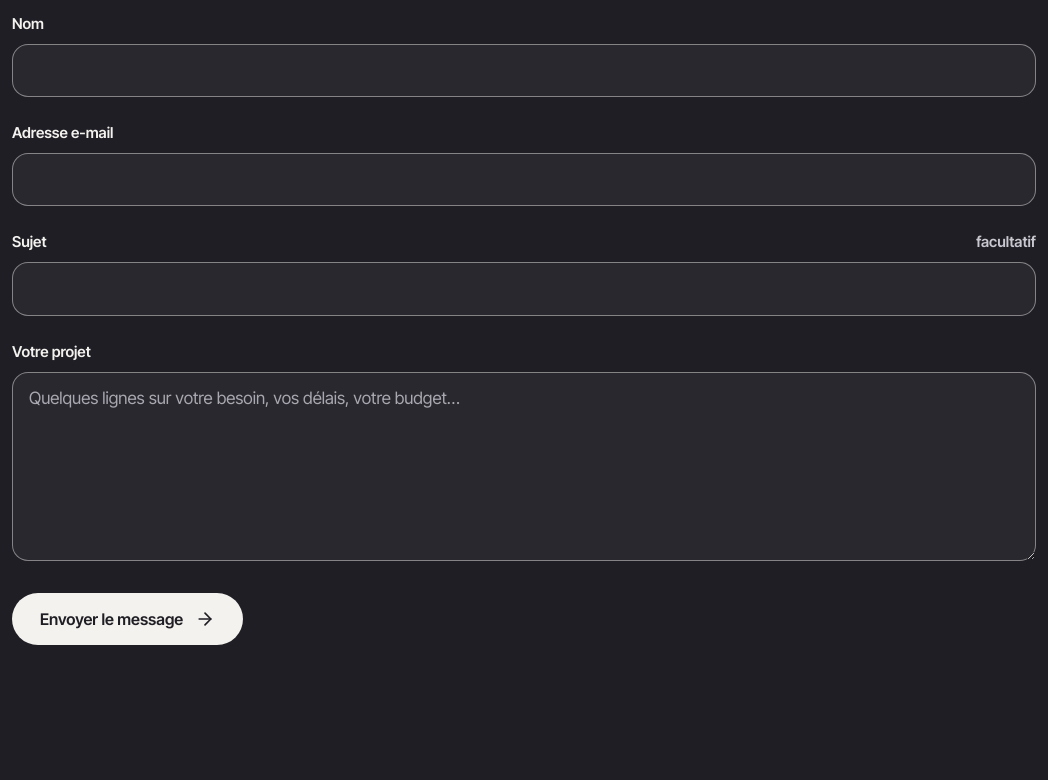
Scenario: ContactForm › envoie le message à Formspree et confirme l’envoi
Type "Awa" into the field labelled "Nom" at (524, 71), box [12,44,1036,97]
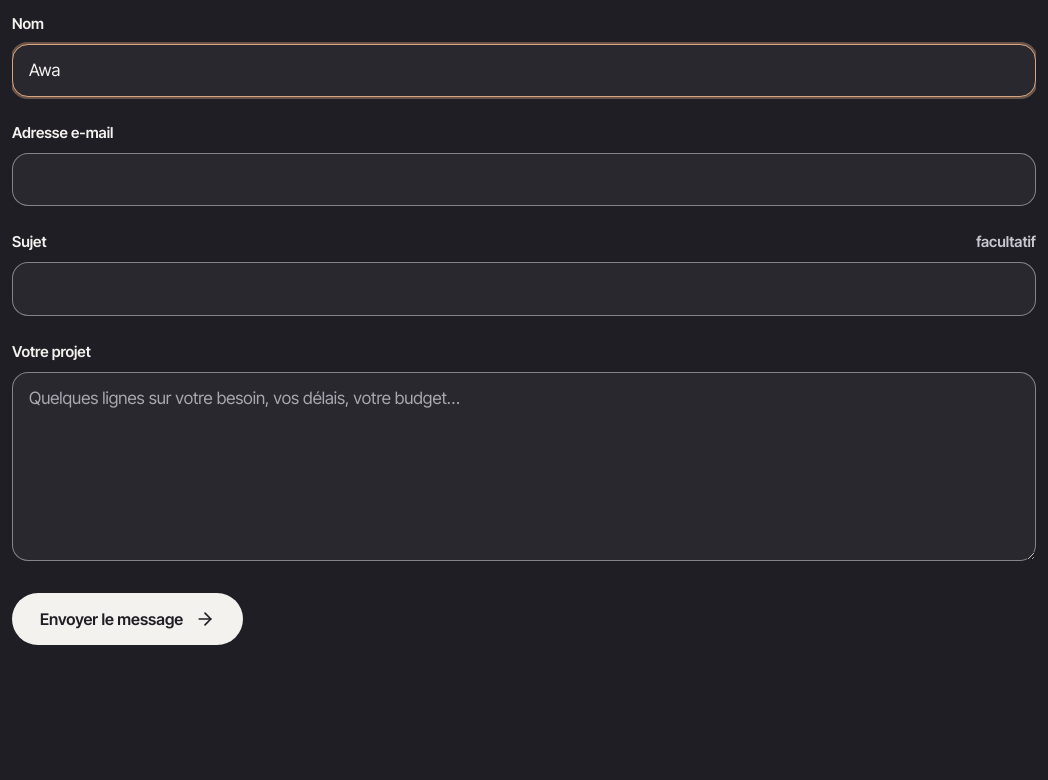
Type "awa@exemple.bj" into the field labelled "Adresse e-mail" at (524, 180), box [12,153,1036,206]
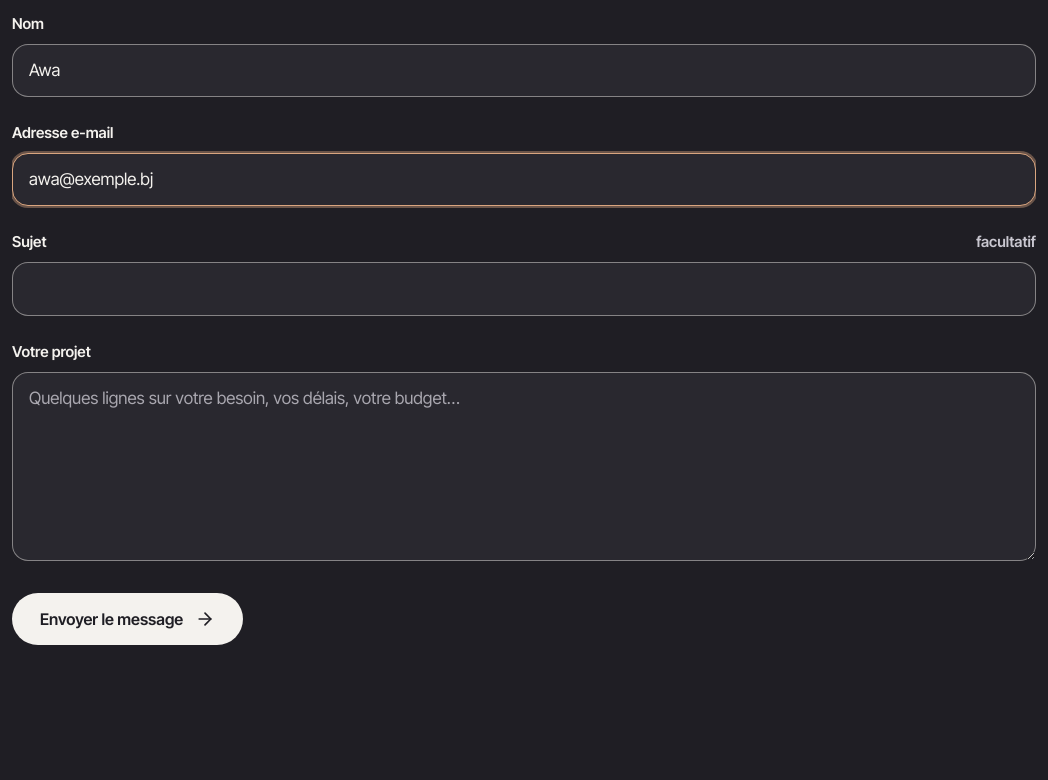
Type "Je souhaite créer un site vitrine." into the text box labelled "Votre projet" at (524, 466), box [12,372,1036,561]
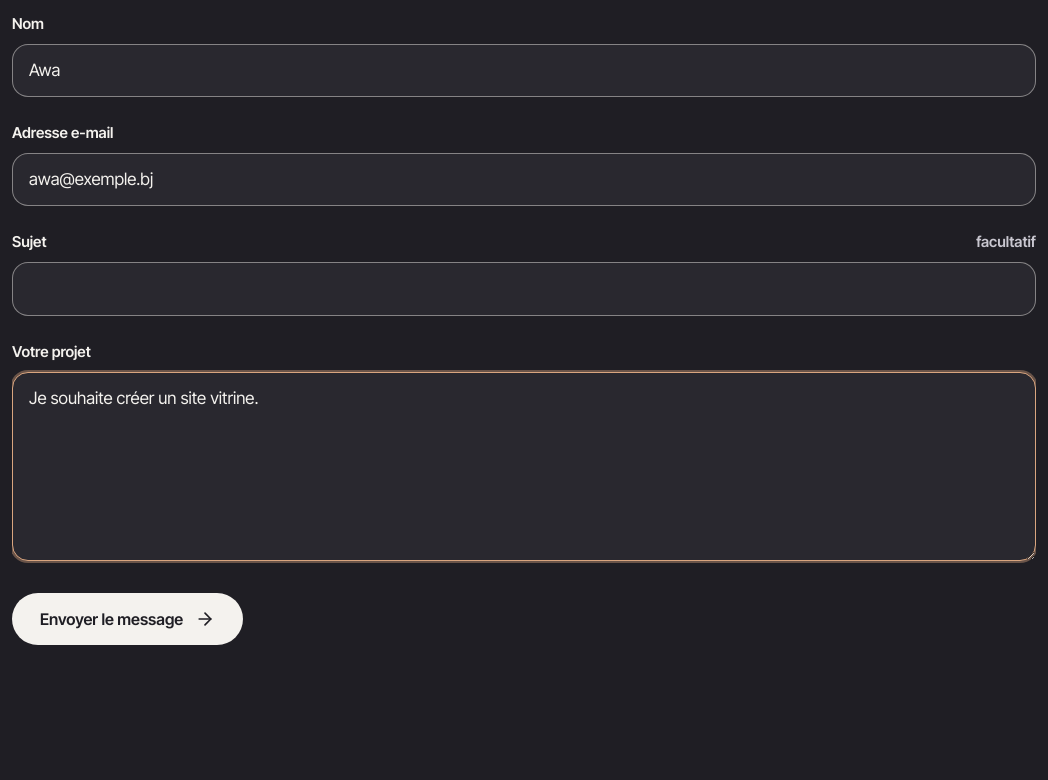
Click the button "Envoyer le message" at (128, 620), box [12,594,243,646]
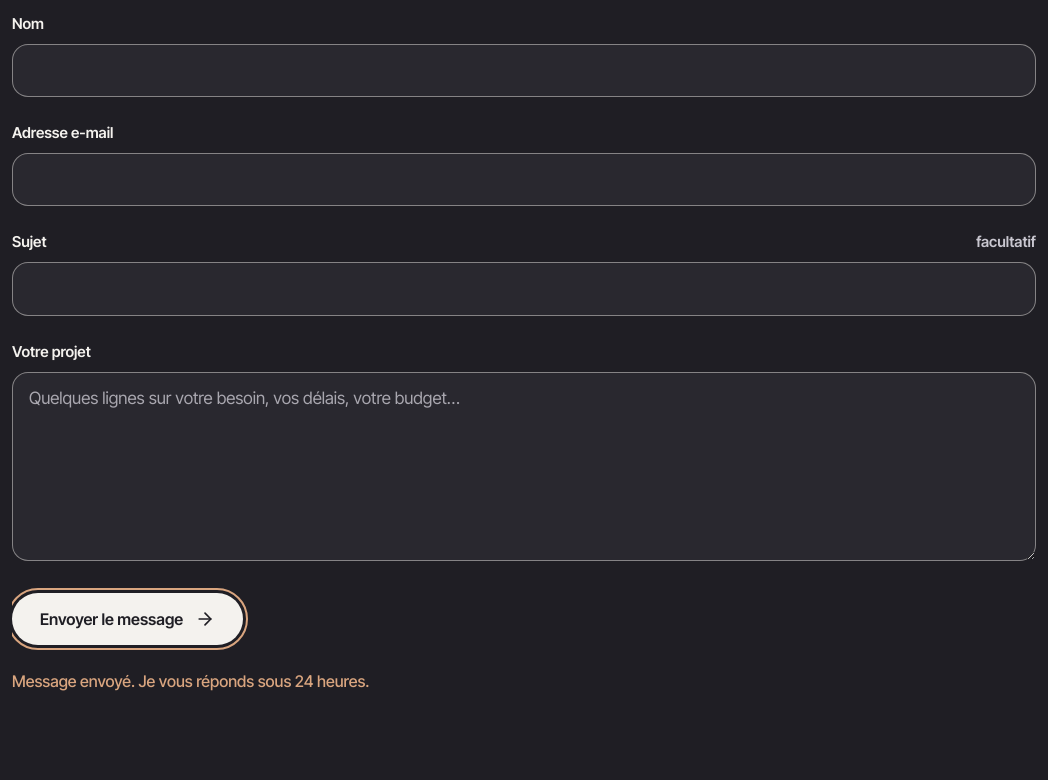
Now the message shows "Message envoyé", box [12,672,370,692]
